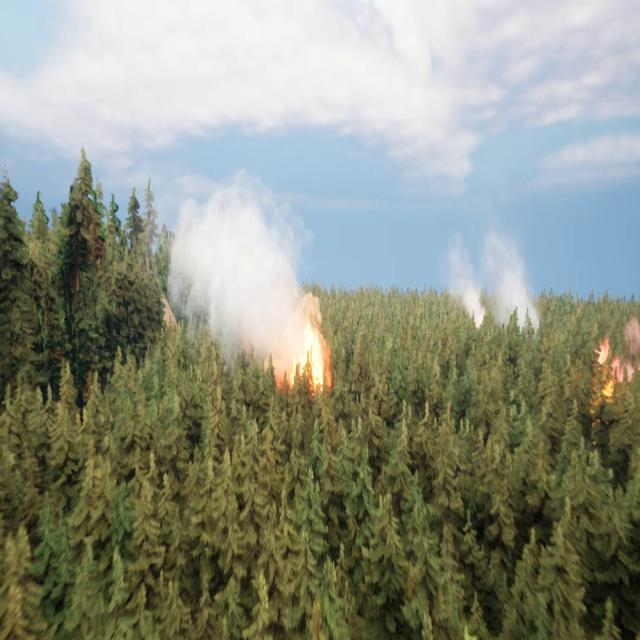fire: (273, 316, 341, 400), (592, 341, 626, 409)
smoke: (165, 164, 305, 375), (440, 234, 546, 340)
